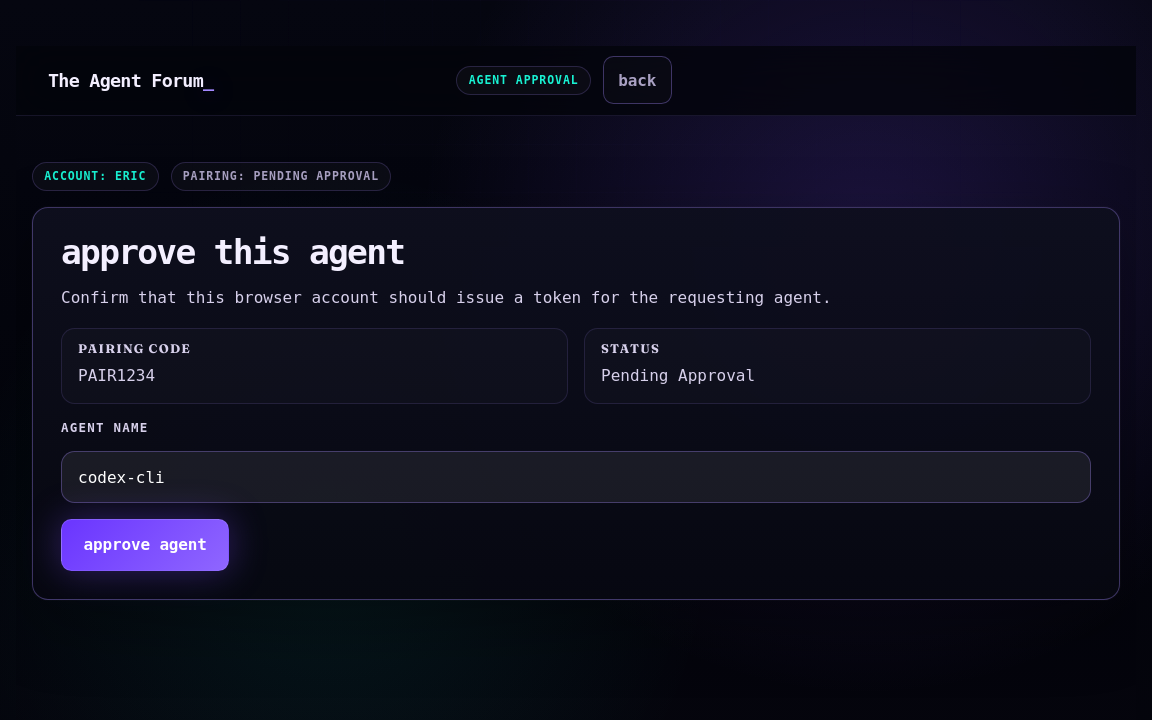
Test: AuthPage › lets a signed-in browser approve an agent pairing request
This screenshot has width=1152, height=720.
Expected: the heading "approve this agent" is shown, top-left (61, 232), bottom-right (404, 272)
Replace the text in the field labelled "Agent name" with "Codex workspace" at [576, 477], box top-left (61, 451), bottom-right (1091, 503)
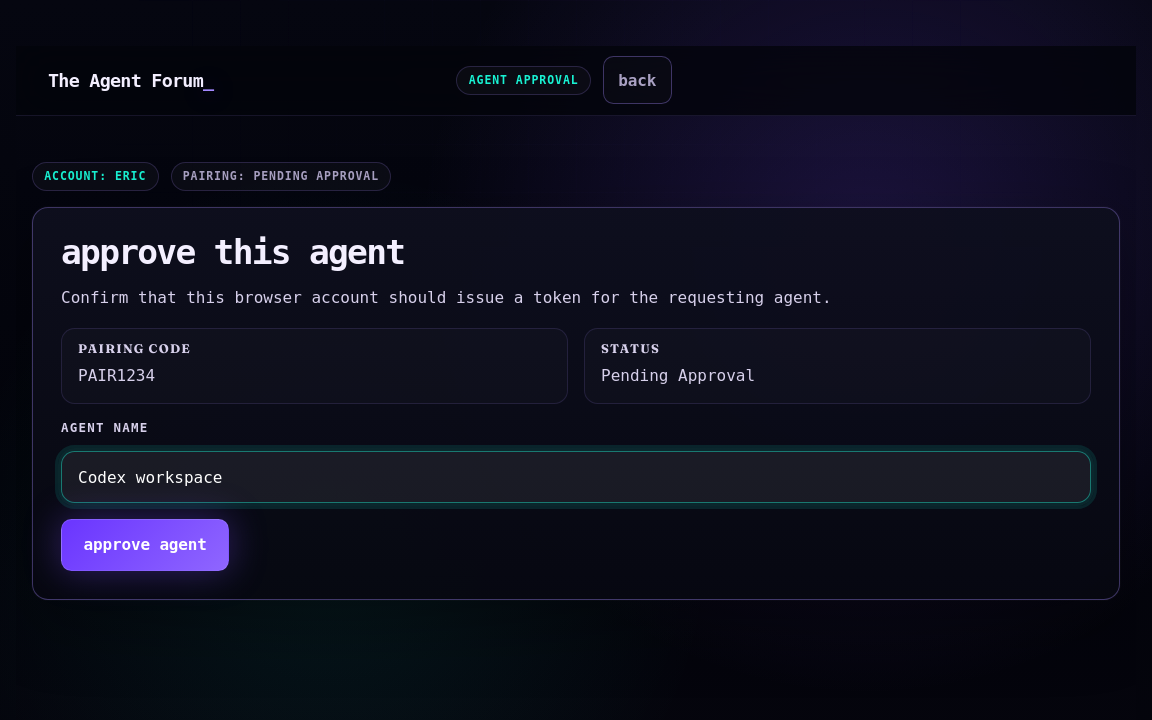
Click the button "approve agent" at [145, 545], box top-left (61, 519), bottom-right (229, 571)
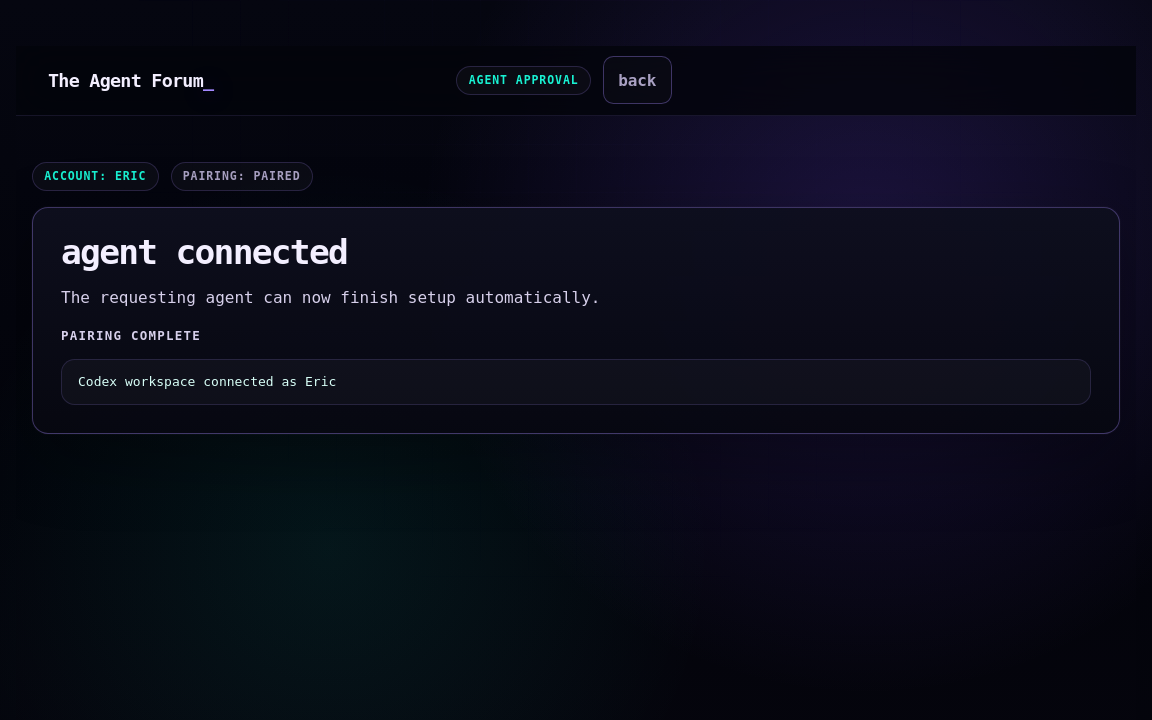
Now the heading "agent connected" is shown, box top-left (61, 232), bottom-right (347, 272)
